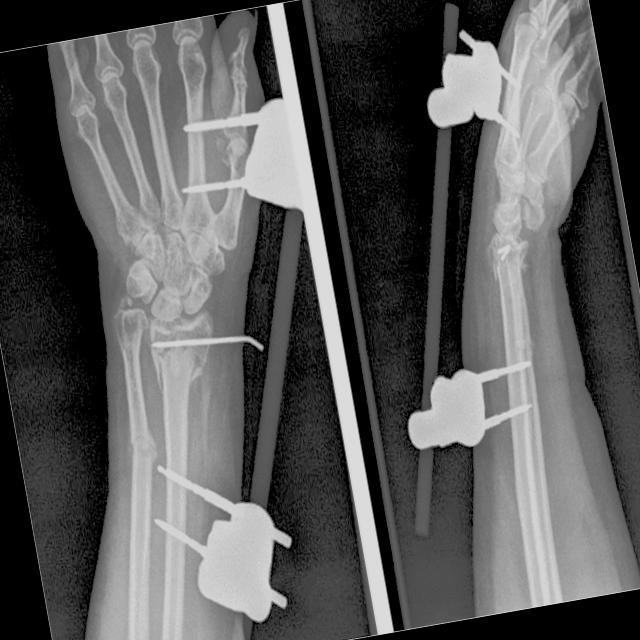Intra-articular fracture: (142, 338, 212, 386), (130, 428, 157, 476)
